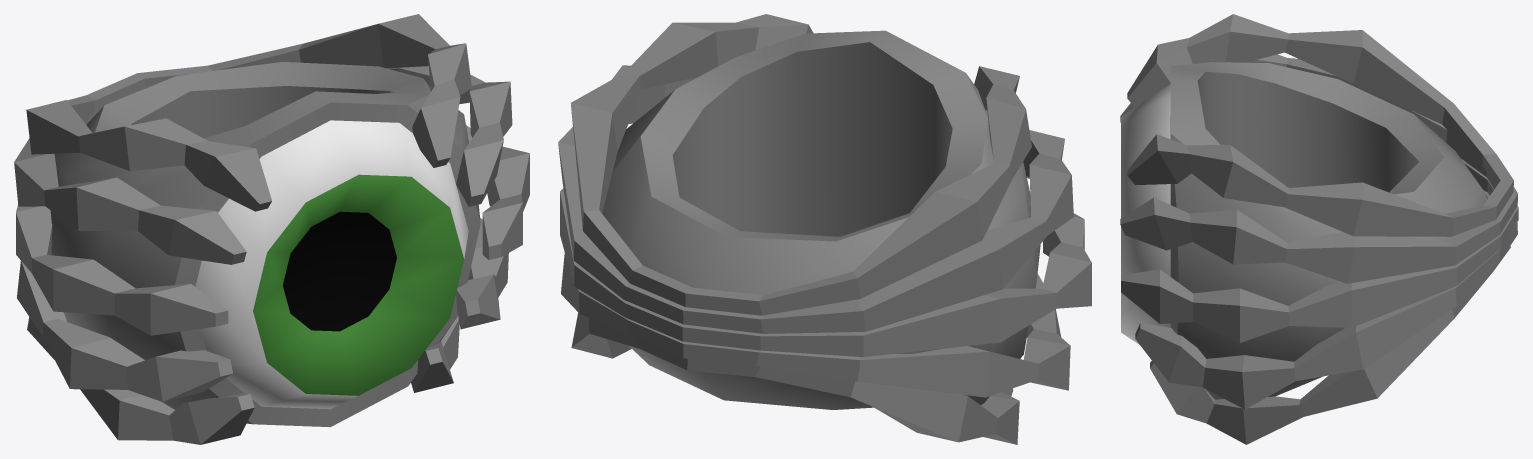
Rendered from eyeball-ring.glb.
The picture shows the model from 3 angles, left to right: view 1: azimuth 30°, elevation 25°; view 2: azimuth 150°, elevation 25°; view 3: azimuth 270°, elevation 25°; orthographic projection. The views are drawn at different scales.
Parts seen in each view (by area): view 1: Sphere; view 2: Sphere; view 3: Sphere.
Part boxes in pixels (left/top/right/bottom): Sphere: left=14, top=14, right=529, bottom=444; Sphere: left=558, top=14, right=1091, bottom=444; Sphere: left=1120, top=14, right=1518, bottom=444.
Size of the model in its own units: 5.98 by 3.95 by 4.88.
